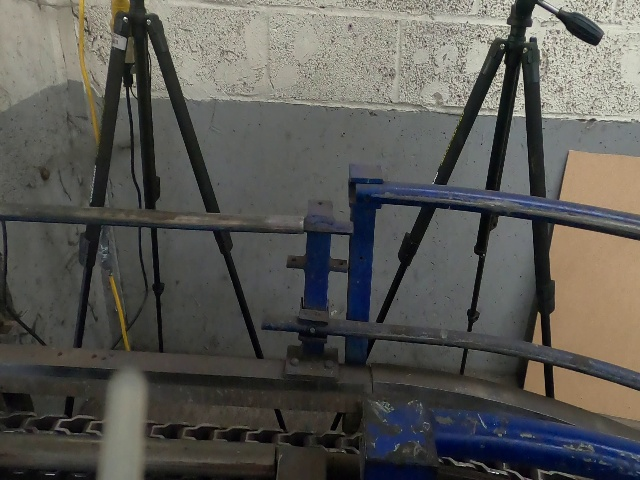gas_bottle: (5, 2, 640, 480)
